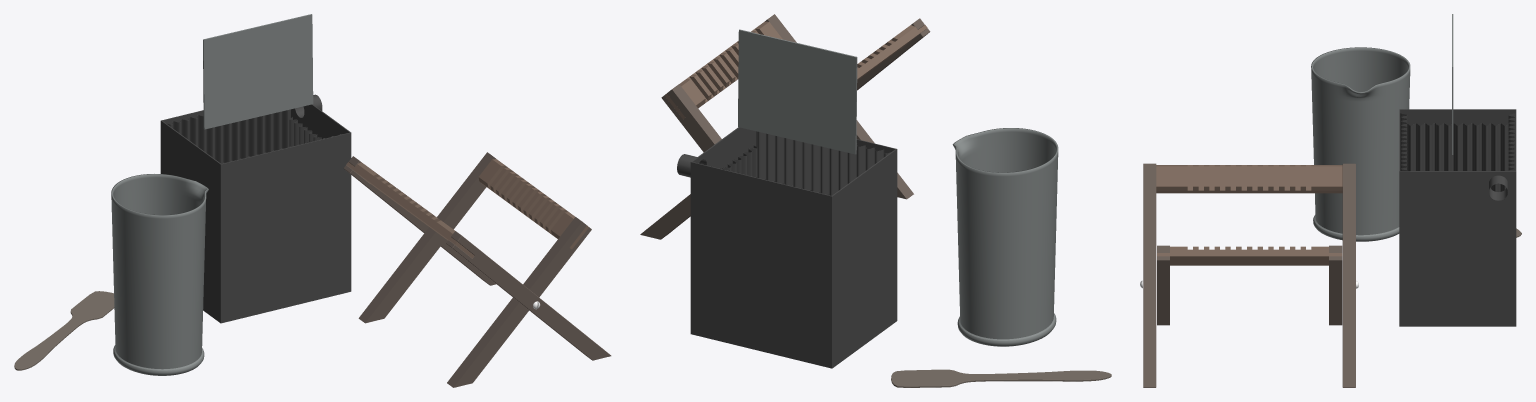
File: demo_step2_anim01_baked.glb
3 renders of one model, left to right at view 1: azimuth 30°, elevation 25°; view 2: azimuth 150°, elevation 25°; view 3: azimuth 270°, elevation 25°, orthographic. The views are drawn at different scales.
Parts seen in each view (by area): view 1: developtingTank.002, graduatedCylinder.002, dryingrack.001, glassplate.002, woodenSpoon.002; view 2: developtingTank.002, graduatedCylinder.002, glassplate.002, dryingrack.001, woodenSpoon.002; view 3: developtingTank.002, dryingrack.001, graduatedCylinder.002.
Boxes of the visible parts, bbox=[...] form: developtingTank.002: bbox=[160, 94, 351, 323]; graduatedCylinder.002: bbox=[111, 174, 208, 375]; dryingrack.001: bbox=[343, 152, 611, 387]; glassplate.002: bbox=[203, 14, 313, 129]; woodenSpoon.002: bbox=[14, 291, 114, 370]; developtingTank.002: bbox=[677, 127, 897, 368]; graduatedCylinder.002: bbox=[952, 128, 1058, 346]; glassplate.002: bbox=[738, 29, 857, 154]; dryingrack.001: bbox=[640, 14, 930, 239]; woodenSpoon.002: bbox=[891, 369, 1111, 387]; developtingTank.002: bbox=[1399, 109, 1516, 326]; dryingrack.001: bbox=[1140, 163, 1358, 387]; graduatedCylinder.002: bbox=[1311, 47, 1410, 241].
Size of the model in its own units: 30.1 by 16.31 by 22.12.
